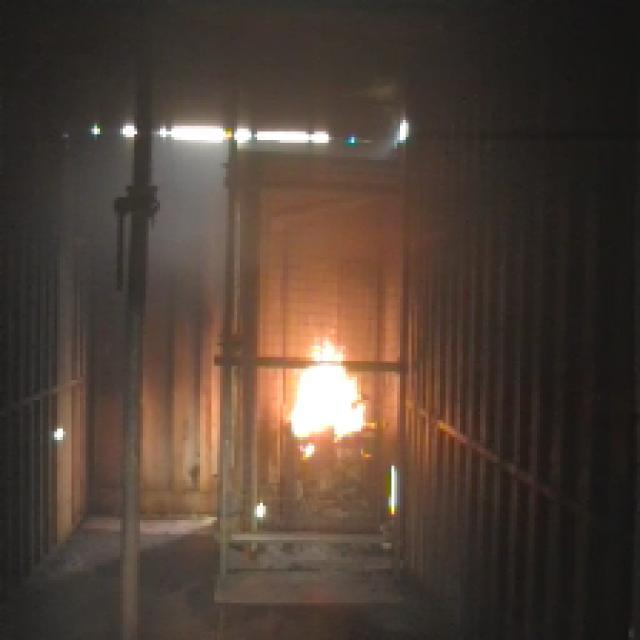Fire: (294, 328, 376, 440)
